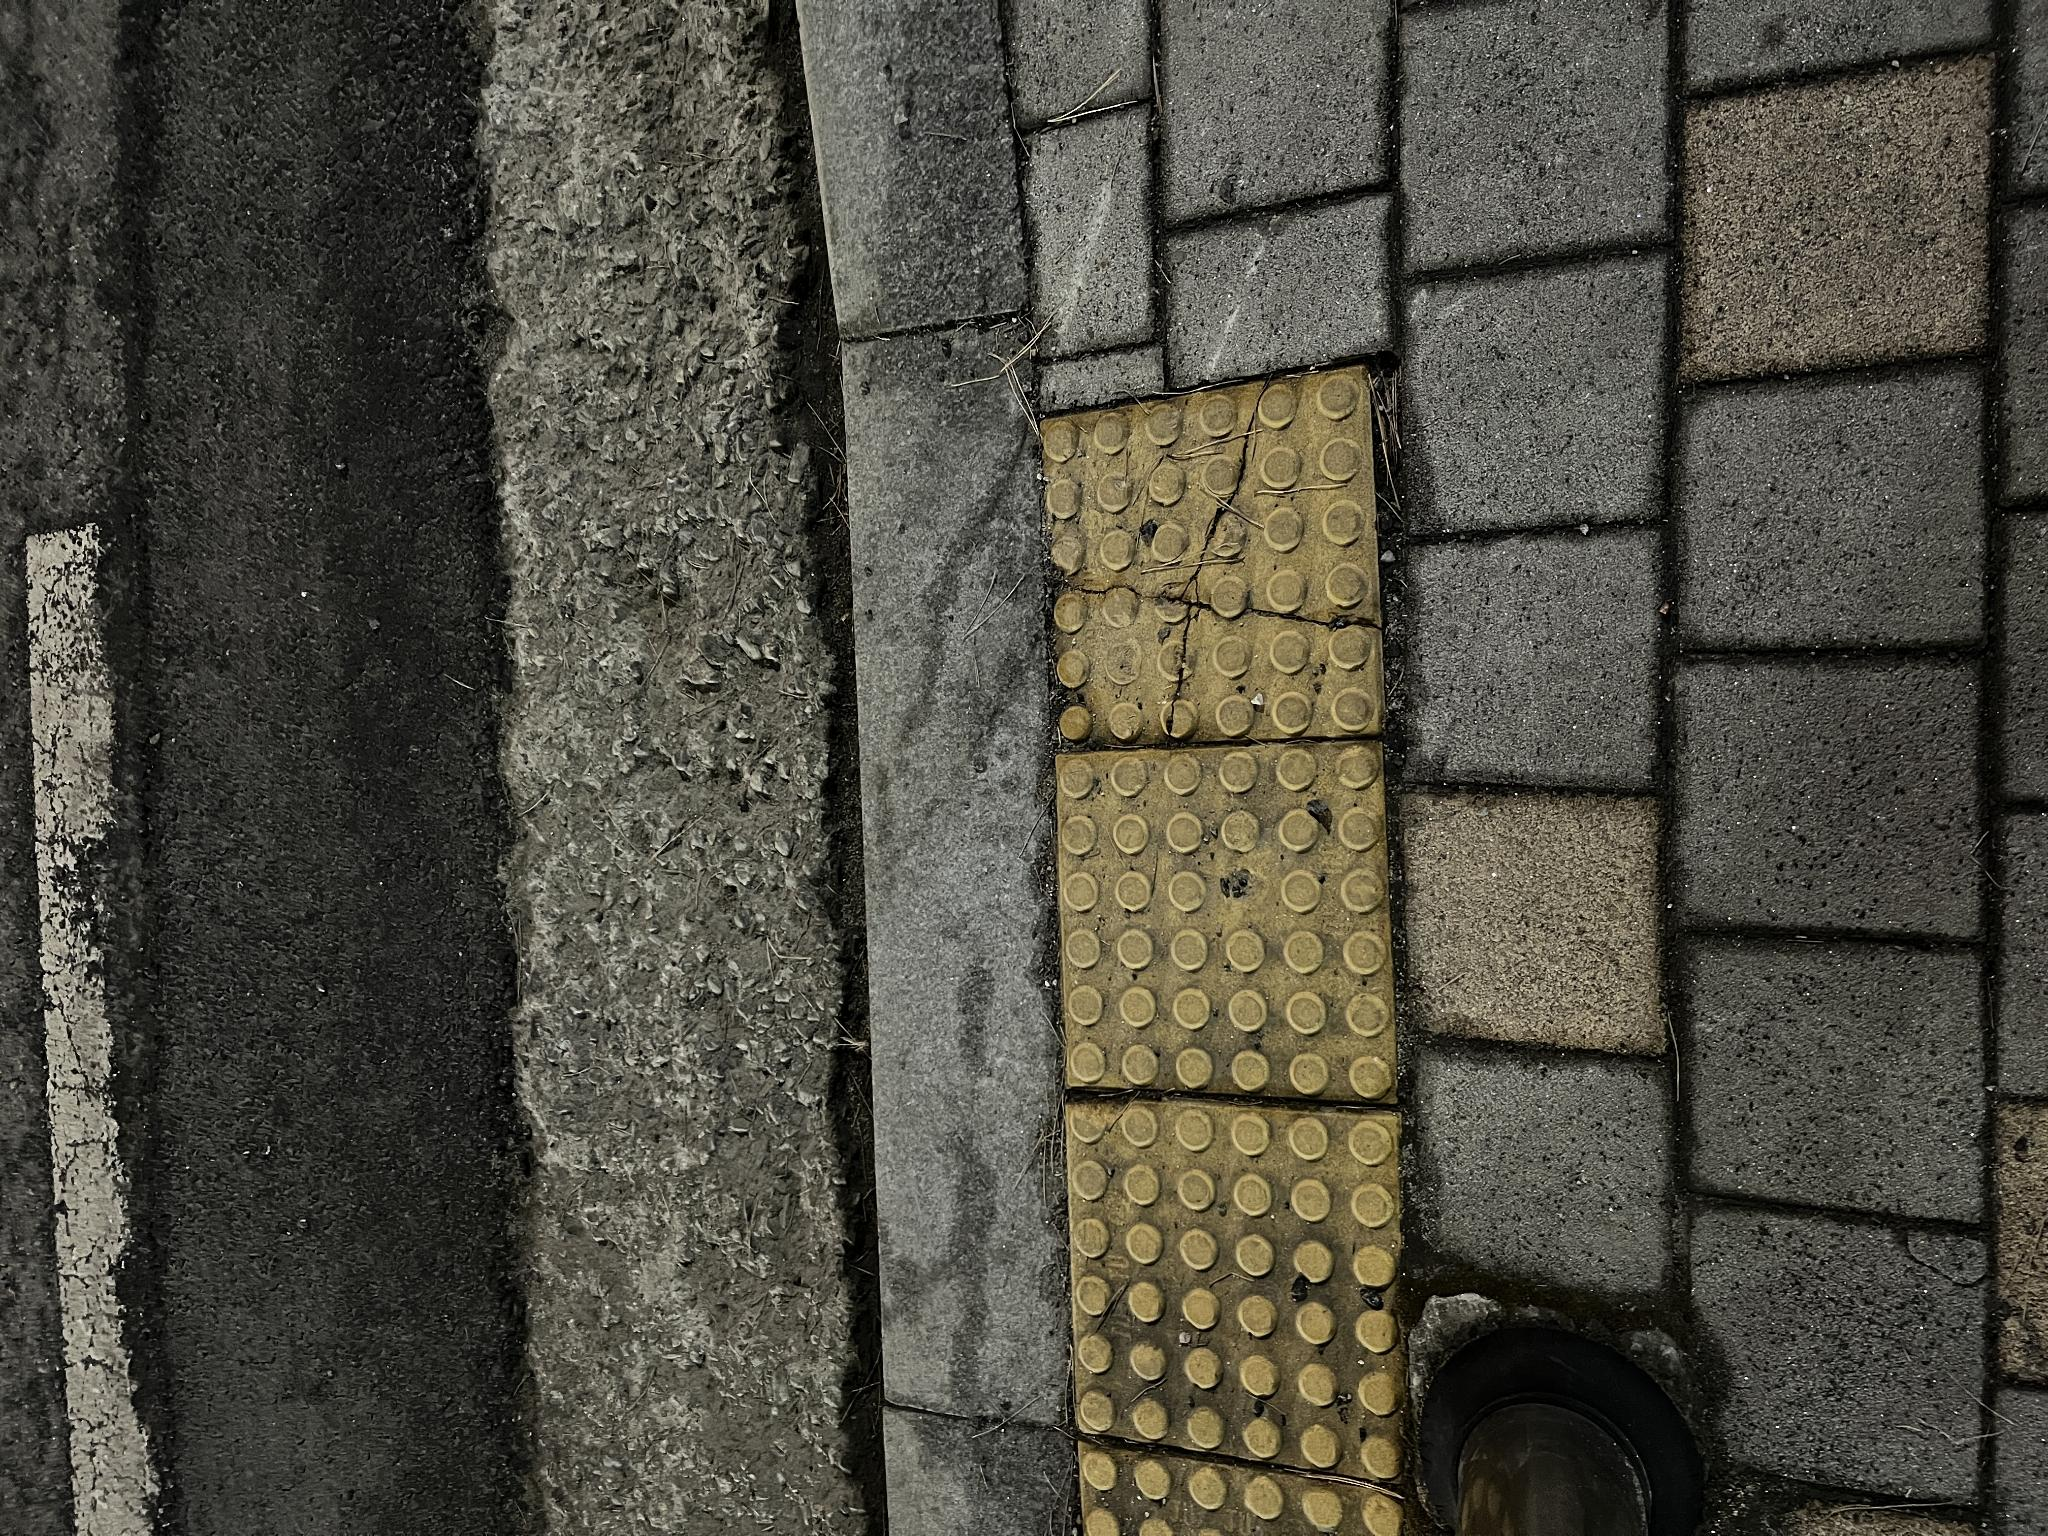Stop block broken: (790, 1042, 1171, 1379)
Stop block normal: (58, 1071, 436, 1396), (433, 1060, 793, 1392)
